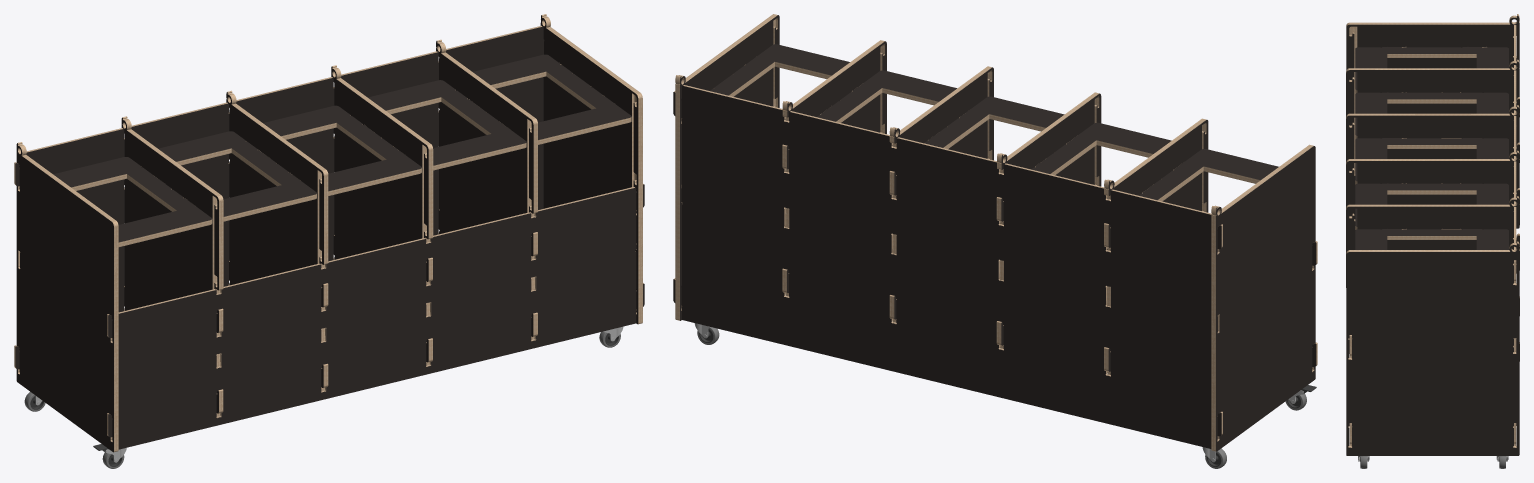
The model's file is Container-B5-Karkass_v2.glb.
3 renders of one model, left to right at view 1: azimuth 30°, elevation 25°; view 2: azimuth 150°, elevation 25°; view 3: azimuth 270°, elevation 25°, orthographic. The views are drawn at different scales.
Parts seen in each view (by area): view 1: Shape051, Shape055 (×4), Shape056 (×2), Shape053 (×5), Shape049; view 2: Shape049, Shape056 (×2), Shape055 (×4), Shape053 (×5); view 3: Shape056 (×2), Shape055 (×4), Shape053 (×5), Shape049.
Boxes of the visible parts, <box> form: Shape051: <box>107,184,644,449</box>; Shape055 (×4): <box>121,39,537,416</box>; Shape056 (×2): <box>16,14,642,452</box>; Shape053 (×5): <box>53,54,631,246</box>; Shape049: <box>14,25,544,369</box>; Shape049: <box>673,85,1222,448</box>; Shape056 (×2): <box>675,14,1315,451</box>; Shape055 (×4): <box>782,40,1208,374</box>; Shape053 (×5): <box>709,44,1278,201</box>; Shape056 (×2): <box>1346,14,1519,455</box>; Shape055 (×4): <box>1346,59,1519,361</box>; Shape053 (×5): <box>1355,47,1508,249</box>; Shape049: <box>1514,25,1516,445</box>.
Bounding box in the file's own units: 1.43 × 0.6661 × 0.4471.
Materials: 5 (1 with a texture image).
